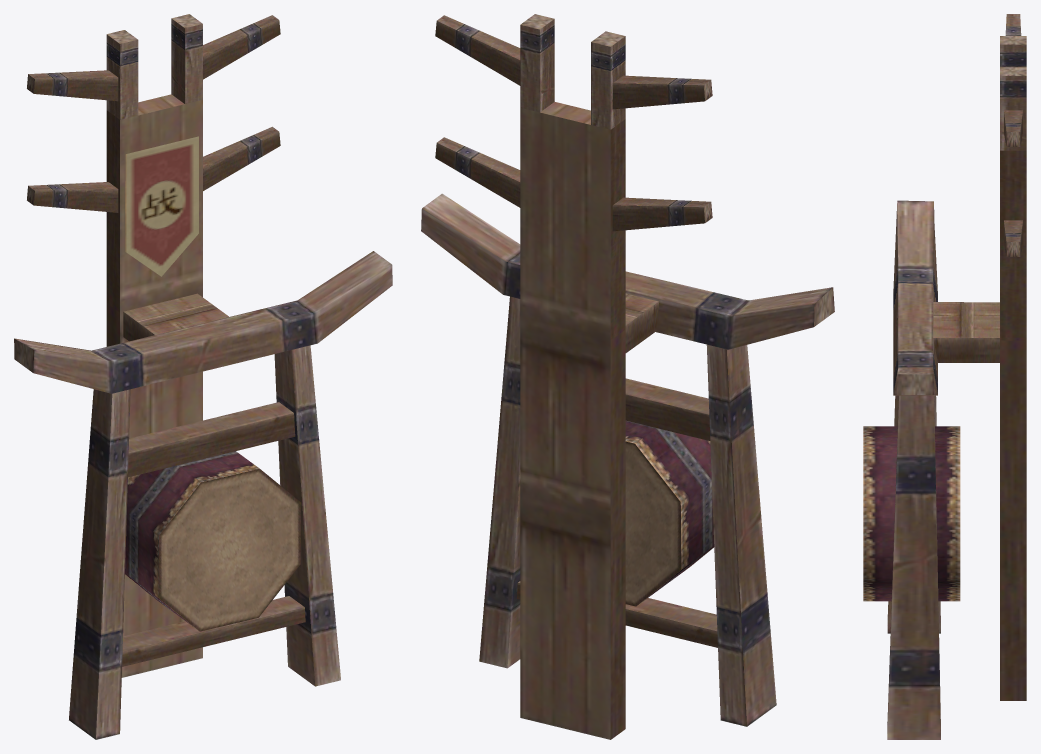
Rendered from zhangu02_R.fbx.
3 views of the same model, side by side, from view 1: azimuth 30°, elevation 25°; view 2: azimuth 150°, elevation 25°; view 3: azimuth 270°, elevation 25° (orthographic). The views are drawn at different scales.
Visible parts, largest first — view 1: zhangu02_R; view 2: zhangu02_R; view 3: zhangu02_R.
Boxes of the visible parts, <box> form: zhangu02_R: <box>14,14,392,739</box>; zhangu02_R: <box>421,14,834,739</box>; zhangu02_R: <box>863,14,1026,739</box>.
Size of the model in its own units: 2.09 by 3.53 by 0.8347.
